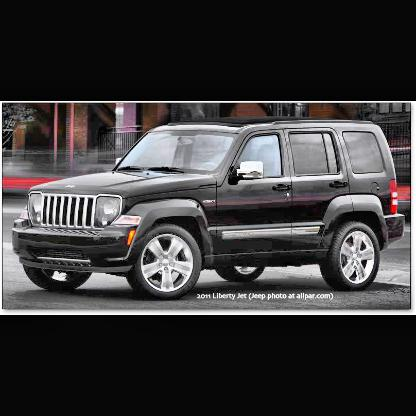Jeep Liberty SUV 2012: (13, 117, 407, 304)
